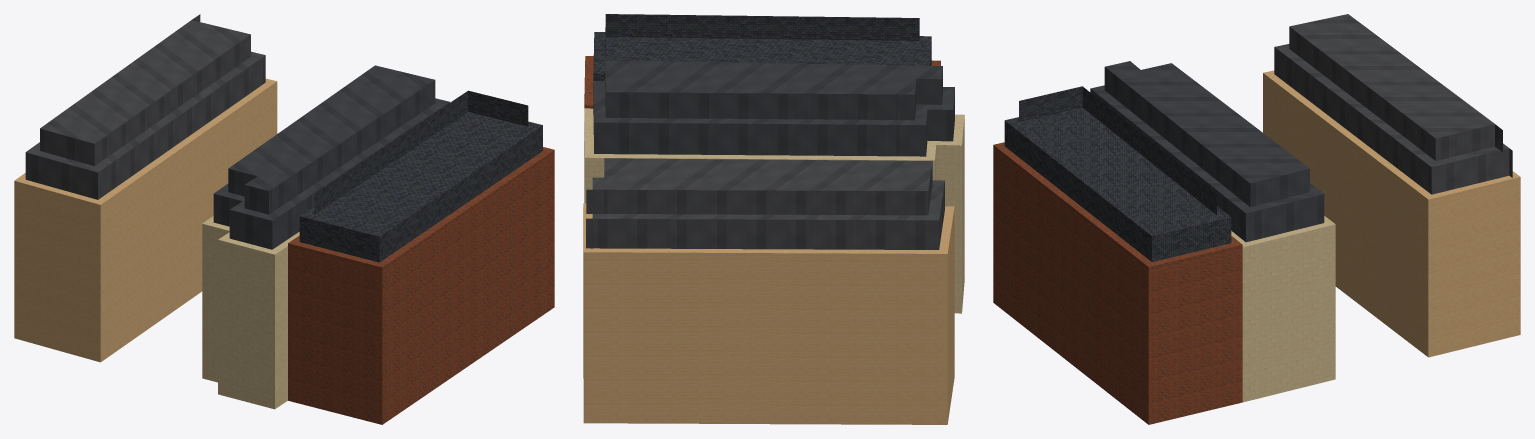
The picture shows the model from 3 angles, left to right: view 1: azimuth 30°, elevation 25°; view 2: azimuth 150°, elevation 25°; view 3: azimuth 270°, elevation 25°; orthographic projection. The views are drawn at different scales.
Parts seen in each view (by area): view 1: lmbase_501637652, lmbase_501637650, lmbase_501637652_roof_a, lmbase_501637651, lmbase_501637650_roof_b, lmbase_501637651_roof_b, lmbase_501637650_roof_a, lmbase_501637651_roof_a, lmbase_501637652_roof_b; view 2: lmbase_501637650, lmbase_501637650_roof_b, lmbase_501637651_roof_b, lmbase_501637651_roof_a, lmbase_501637650_roof_a, lmbase_501637652_roof_a, lmbase_501637652_roof_b, lmbase_501637651, lmbase_501637652; view 3: lmbase_501637652, lmbase_501637650, lmbase_501637652_roof_a, lmbase_501637651, lmbase_501637650_roof_b, lmbase_501637651_roof_b, lmbase_501637650_roof_a, lmbase_501637651_roof_a, lmbase_501637652_roof_b.
Part boxes in pixels (left/top/right/bottom): lmbase_501637652: left=288, top=147, right=554, bottom=424; lmbase_501637650: left=14, top=78, right=277, bottom=362; lmbase_501637652_roof_a: left=299, top=111, right=542, bottom=262; lmbase_501637651: left=202, top=216, right=299, bottom=409; lmbase_501637650_roof_b: left=40, top=14, right=250, bottom=165; lmbase_501637651_roof_b: left=228, top=65, right=435, bottom=214; lmbase_501637650_roof_a: left=25, top=51, right=265, bottom=199; lmbase_501637651_roof_a: left=213, top=98, right=450, bottom=249; lmbase_501637652_roof_b: left=314, top=90, right=528, bottom=214; lmbase_501637650: left=583, top=203, right=954, bottom=424; lmbase_501637650_roof_b: left=586, top=158, right=932, bottom=215; lmbase_501637651_roof_b: left=605, top=60, right=942, bottom=120; lmbase_501637651_roof_a: left=593, top=81, right=954, bottom=156; lmbase_501637650_roof_a: left=586, top=177, right=944, bottom=249; lmbase_501637652_roof_a: left=593, top=32, right=931, bottom=81; lmbase_501637652_roof_b: left=605, top=14, right=919, bottom=59; lmbase_501637651: left=584, top=108, right=964, bottom=313; lmbase_501637652: left=584, top=56, right=940, bottom=108; lmbase_501637652: left=993, top=142, right=1242, bottom=424; lmbase_501637650: left=1263, top=70, right=1520, bottom=357; lmbase_501637652_roof_a: left=1004, top=107, right=1231, bottom=261; lmbase_501637651: left=1231, top=216, right=1335, bottom=402; lmbase_501637650_roof_b: left=1289, top=14, right=1502, bottom=160; lmbase_501637651_roof_b: left=1104, top=61, right=1309, bottom=206; lmbase_501637650_roof_a: left=1274, top=44, right=1512, bottom=194; lmbase_501637651_roof_a: left=1090, top=85, right=1324, bottom=242; lmbase_501637652_roof_b: left=1019, top=86, right=1216, bottom=214.
Size of the model in its own units: 33.11 by 15 by 34.51.
6 materials, 6 textured.
